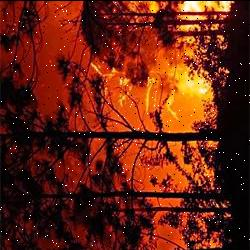fire: (87, 0, 234, 114)
